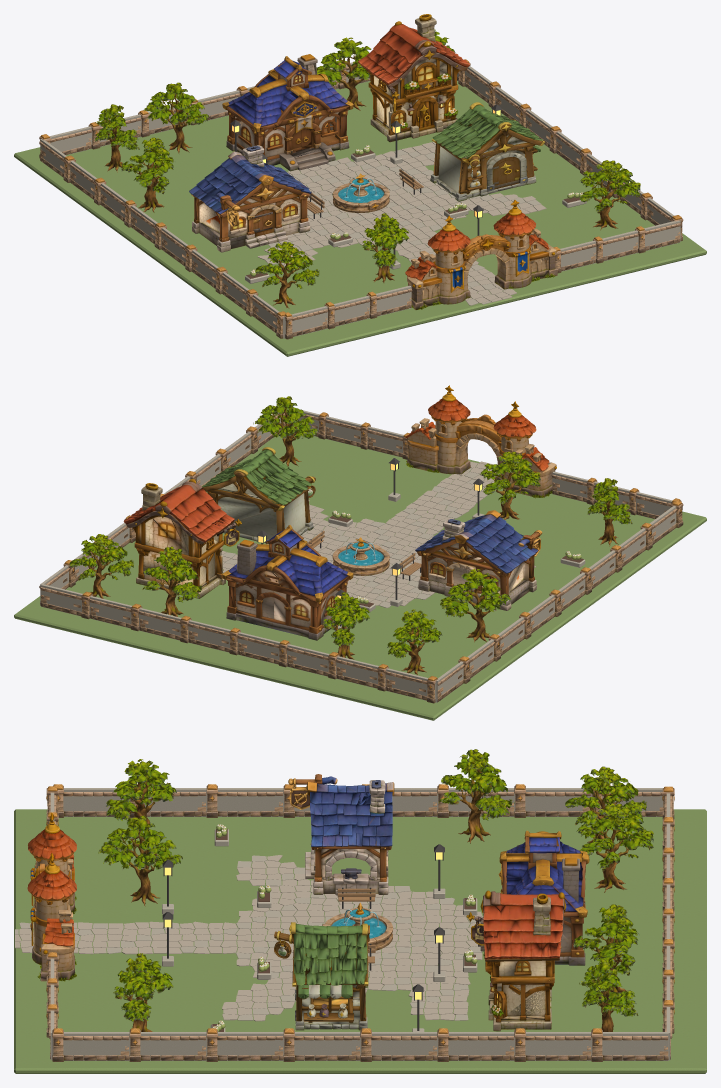
File: town-environment.web.glb
3 renders of one model, top to bottom at view 1: azimuth 30°, elevation 25°; view 2: azimuth 150°, elevation 25°; view 3: azimuth 270°, elevation 25°, orthographic. The views are drawn at different scales.
Parts seen in each view (by area): view 1: Town runtime geometry.001, Town runtime geometry.002, Town runtime geometry.011, Town runtime geometry.010, Town runtime geometry.003, Town runtime geometry.006, Town runtime geometry.007, Town runtime geometry.004, Town runtime geometry.008, Town runtime geometry.005, Town runtime geometry.009, Town runtime geometry.015 (+1 smaller); view 2: Town runtime geometry.001, Town runtime geometry.002, Town runtime geometry.011, Town runtime geometry.010, Town runtime geometry.006, Town runtime geometry.007, Town runtime geometry.004, Town runtime geometry.003, Town runtime geometry.008, Town runtime geometry.005, Town runtime geometry.009, Town runtime geometry.012; view 3: Town runtime geometry.001, Town runtime geometry.002, Town runtime geometry.011, Town runtime geometry.003, Town runtime geometry.010, Town runtime geometry.007, Town runtime geometry.004, Town runtime geometry.005, Town runtime geometry.008, Town runtime geometry.006, Town runtime geometry.009, Town runtime geometry.012 (+2 smaller).
Part boxes in pixels (<box>): Town runtime geometry.001: <box>14,81,706,356</box>; Town runtime geometry.002: <box>40,62,680,338</box>; Town runtime geometry.011: <box>95,29,640,308</box>; Town runtime geometry.010: <box>39,59,683,339</box>; Town runtime geometry.003: <box>258,142,546,303</box>; Town runtime geometry.006: <box>222,54,353,171</box>; Town runtime geometry.007: <box>358,14,469,142</box>; Town runtime geometry.004: <box>189,145,311,252</box>; Town runtime geometry.008: <box>405,200,557,309</box>; Town runtime geometry.005: <box>430,102,544,201</box>; Town runtime geometry.009: <box>332,173,389,212</box>; Town runtime geometry.015: <box>246,145,582,278</box>; Town runtime geometry.001: <box>14,435,706,720</box>; Town runtime geometry.002: <box>40,410,676,702</box>; Town runtime geometry.011: <box>69,396,632,675</box>; Town runtime geometry.010: <box>39,412,683,703</box>; Town runtime geometry.006: <box>222,525,353,640</box>; Town runtime geometry.007: <box>123,479,241,598</box>; Town runtime geometry.004: <box>415,510,542,610</box>; Town runtime geometry.003: <box>221,461,496,606</box>; Town runtime geometry.008: <box>405,385,556,498</box>; Town runtime geometry.005: <box>202,447,315,543</box>; Town runtime geometry.009: <box>332,537,389,575</box>; Town runtime geometry.012: <box>256,458,484,626</box>; Town runtime geometry.001: <box>14,809,706,1073</box>; Town runtime geometry.002: <box>15,788,670,1060</box>; Town runtime geometry.011: <box>98,749,653,1031</box>; Town runtime geometry.003: <box>15,855,482,1021</box>; Town runtime geometry.010: <box>46,784,674,1061</box>; Town runtime geometry.007: <box>466,890,566,1031</box>; Town runtime geometry.004: <box>288,774,394,895</box>; Town runtime geometry.005: <box>274,922,369,1030</box>; Town runtime geometry.008: <box>27,812,76,981</box>; Town runtime geometry.006: <box>478,830,589,965</box>; Town runtime geometry.009: <box>322,902,393,950</box>; Town runtime geometry.012: <box>162,844,444,1030</box>.
Size of the model in its own units: 32 by 7.59 by 36.
16 materials, 16 textured.
